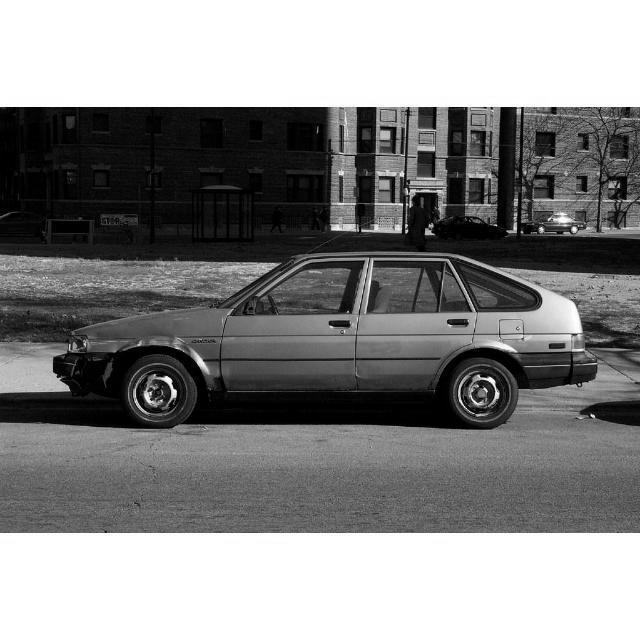fender-dent: (90, 320, 212, 357)
